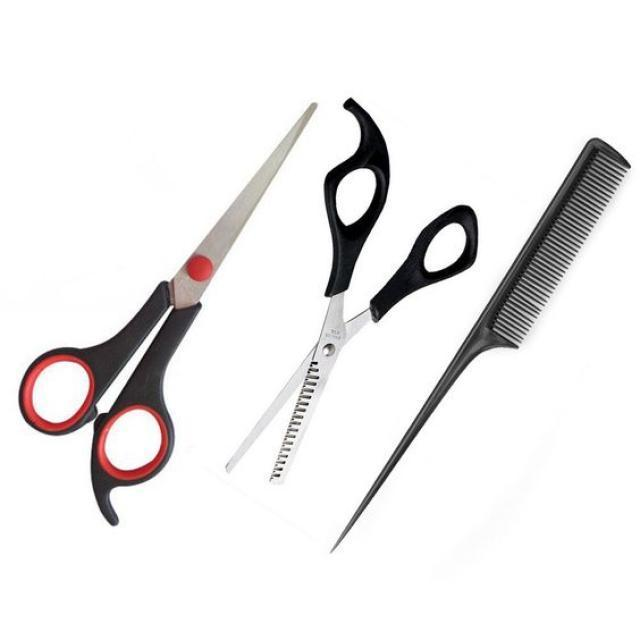scissor: (17, 96, 480, 524)
